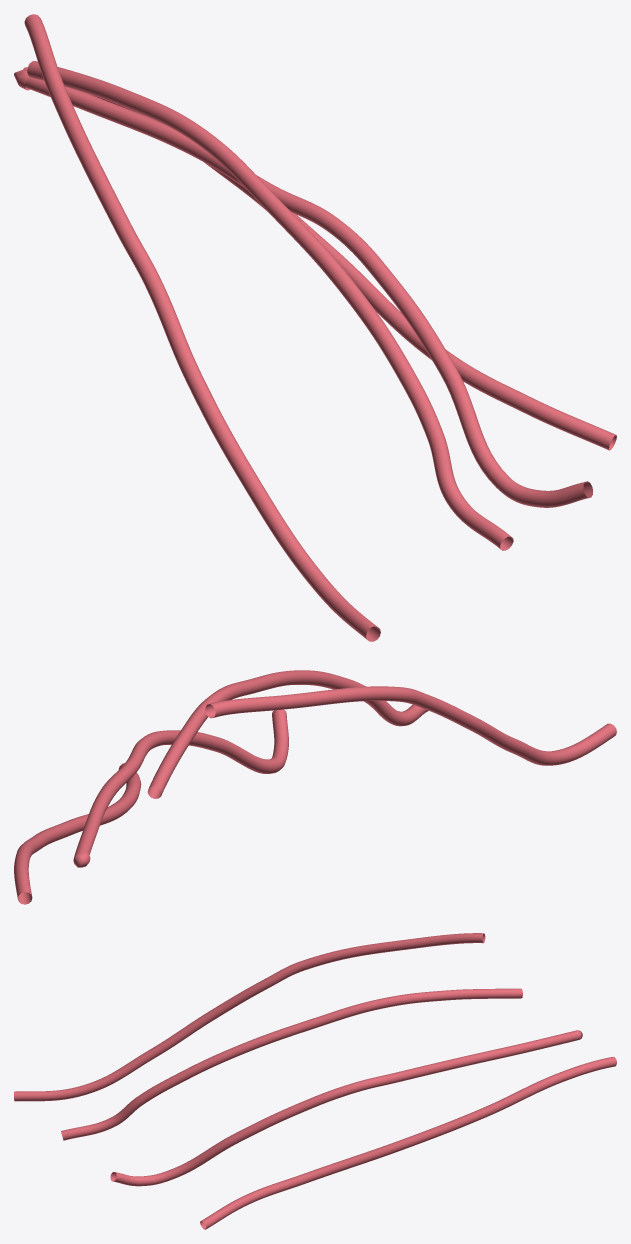
3 renders of one model, top to bottom at view 1: azimuth 30°, elevation 25°; view 2: azimuth 150°, elevation 25°; view 3: azimuth 270°, elevation 25°, orthographic. The views are drawn at different scales.
Visible parts, largest first — view 1: ZA_7f1d68ab1582b941; view 2: ZA_7f1d68ab1582b941; view 3: ZA_7f1d68ab1582b941.
Part boxes in pixels (<box>): ZA_7f1d68ab1582b941: <box>14,14,616,641</box>; ZA_7f1d68ab1582b941: <box>14,670,616,904</box>; ZA_7f1d68ab1582b941: <box>14,933,616,1229</box>.
Bounding box in the file's own units: 0.04 × 0.0308 × 0.0844.
